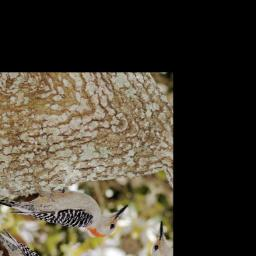Woodpecker: (0, 146, 135, 256)
